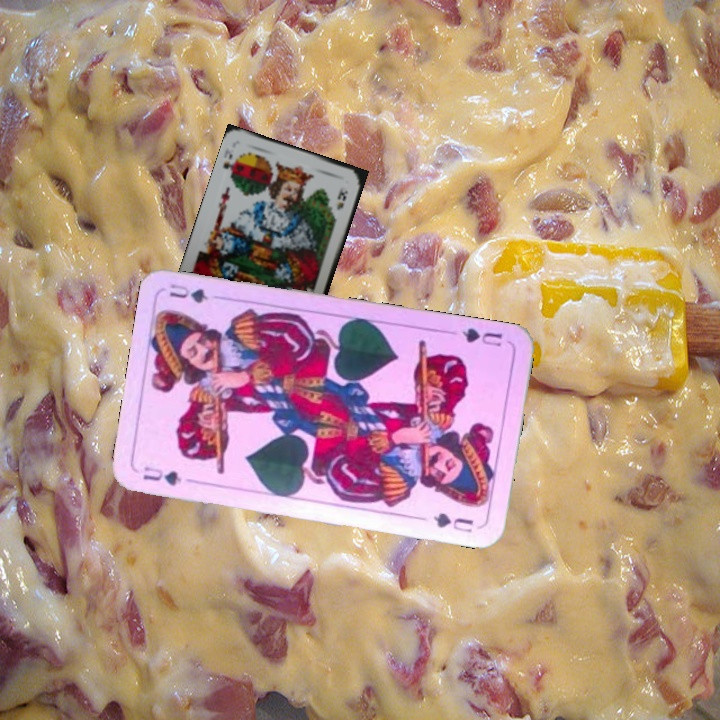GU: (458, 323, 505, 349), (138, 462, 184, 488)
SK: (219, 149, 242, 180)
